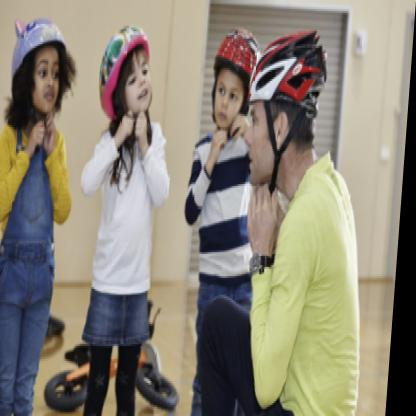With Helmet: (243, 17, 328, 200), (89, 16, 163, 131), (5, 15, 75, 125), (206, 18, 257, 142)
